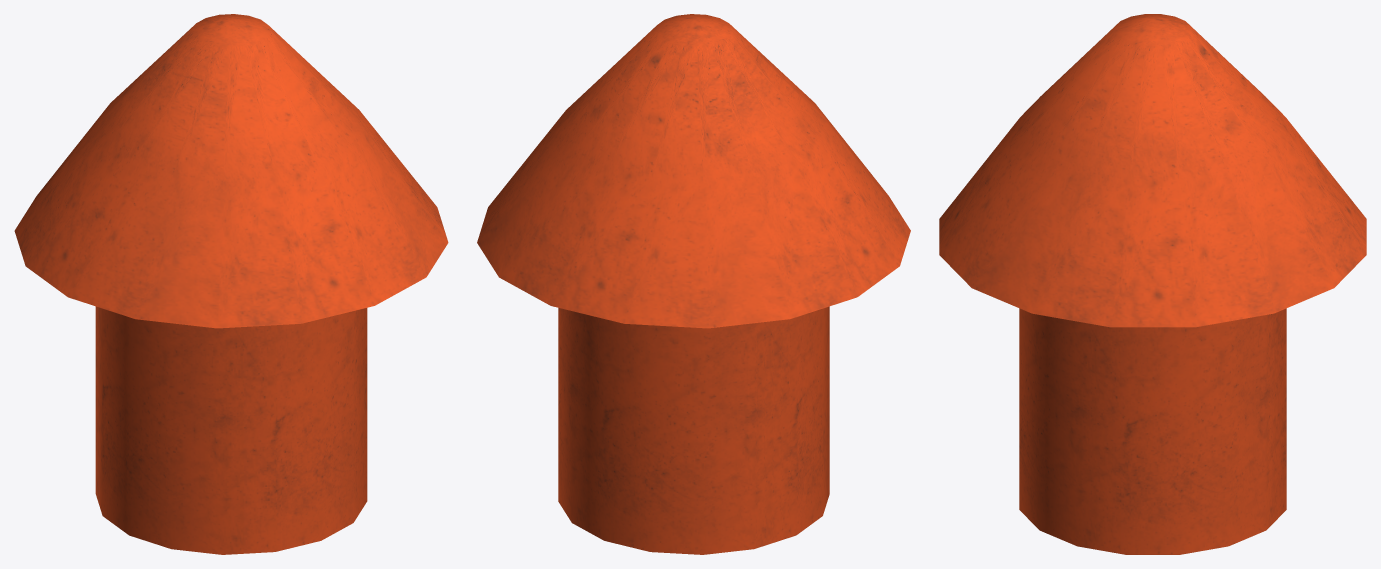
File: Iron Rod Cap.fbx
The picture shows the model from 3 angles, left to right: view 1: azimuth 30°, elevation 25°; view 2: azimuth 150°, elevation 25°; view 3: azimuth 270°, elevation 25°; orthographic projection.
Visible parts, largest first — view 1: Iron Rod Cap; view 2: Iron Rod Cap; view 3: Iron Rod Cap.
Boxes of the visible parts, x1=… form: Iron Rod Cap: x1=14, y1=14, x2=448, y2=554; Iron Rod Cap: x1=477, y1=14, x2=910, y2=554; Iron Rod Cap: x1=939, y1=14, x2=1366, y2=554.
Size of the model in its own units: 2.56 by 3.15 by 2.56.
Materials: 1 (1 with a texture image).
